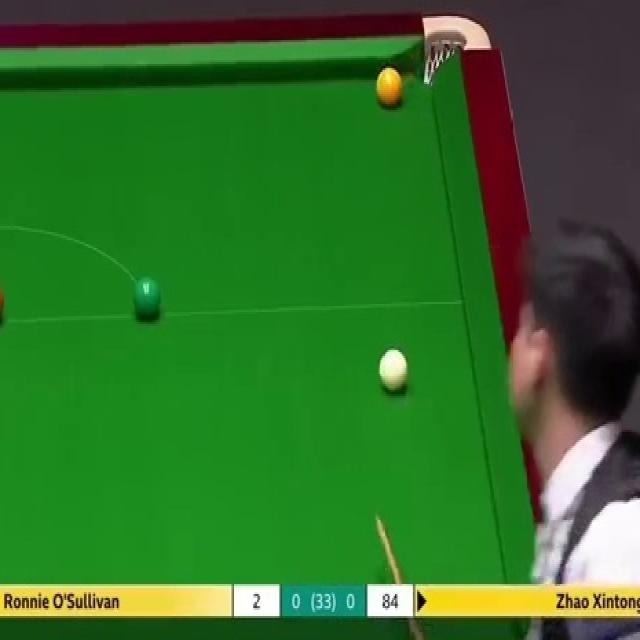pocket: (412, 15, 498, 88)
